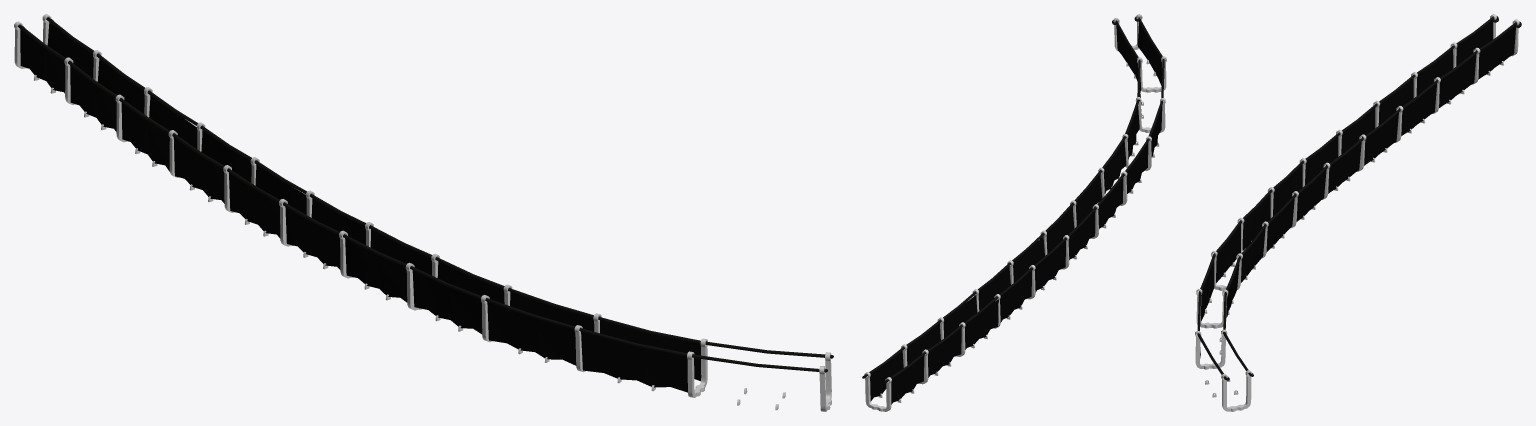
File: SideRailsFrontRight.fbx
The picture shows the model from 3 angles, left to right: view 1: azimuth 30°, elevation 25°; view 2: azimuth 150°, elevation 25°; view 3: azimuth 330°, elevation 25°; orthographic projection. The views are drawn at different scales.
Visible parts, largest first — view 1: SideRailsFrontRight; view 2: SideRailsFrontRight; view 3: SideRailsFrontRight.
Boxes of the visible parts, box(x1,y1,x2,y2) form: SideRailsFrontRight: box(14, 14, 833, 411); SideRailsFrontRight: box(862, 14, 1166, 411); SideRailsFrontRight: box(1195, 14, 1521, 411).
Size of the model in its own units: 345 by 83.34 by 1338.
